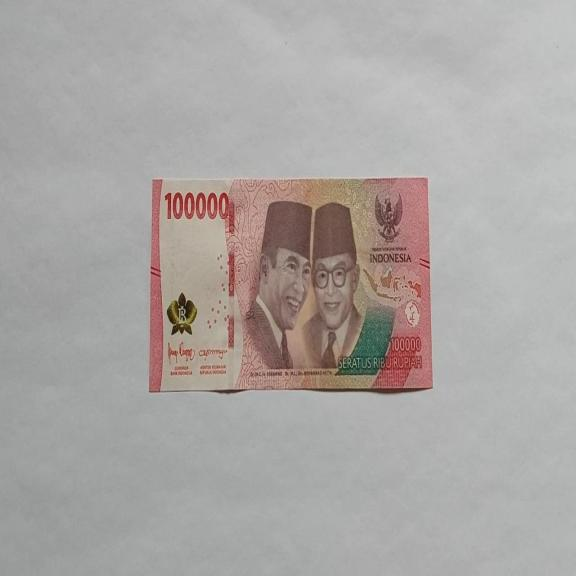Kertas: (148, 175, 433, 394), (163, 189, 230, 222)
